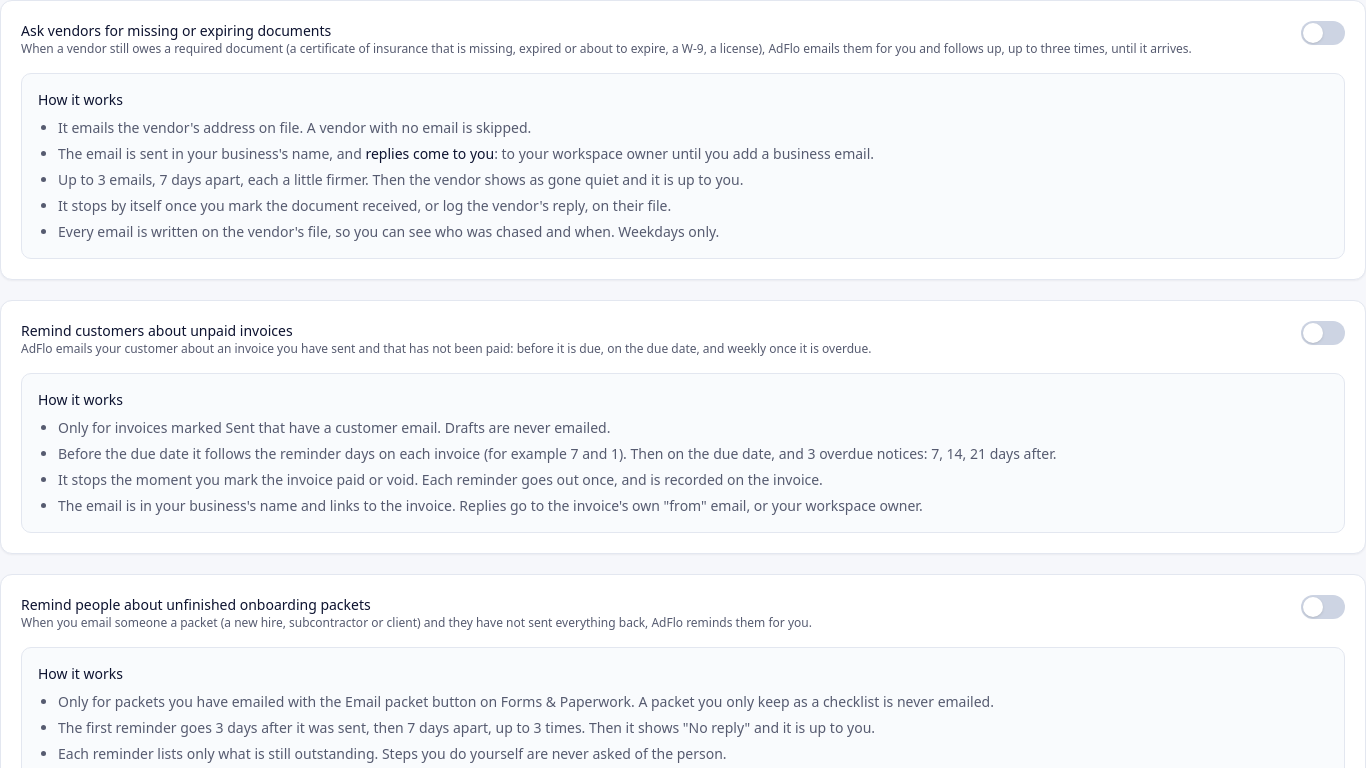
Scenario: Automations section › switches on and off, and saves each choice
This screenshot has width=1366, height=768.
Click the 1st switch named "Ask vendors for missing or expiring documents". click: point(1323, 33)
box: [1301,21,1345,45]
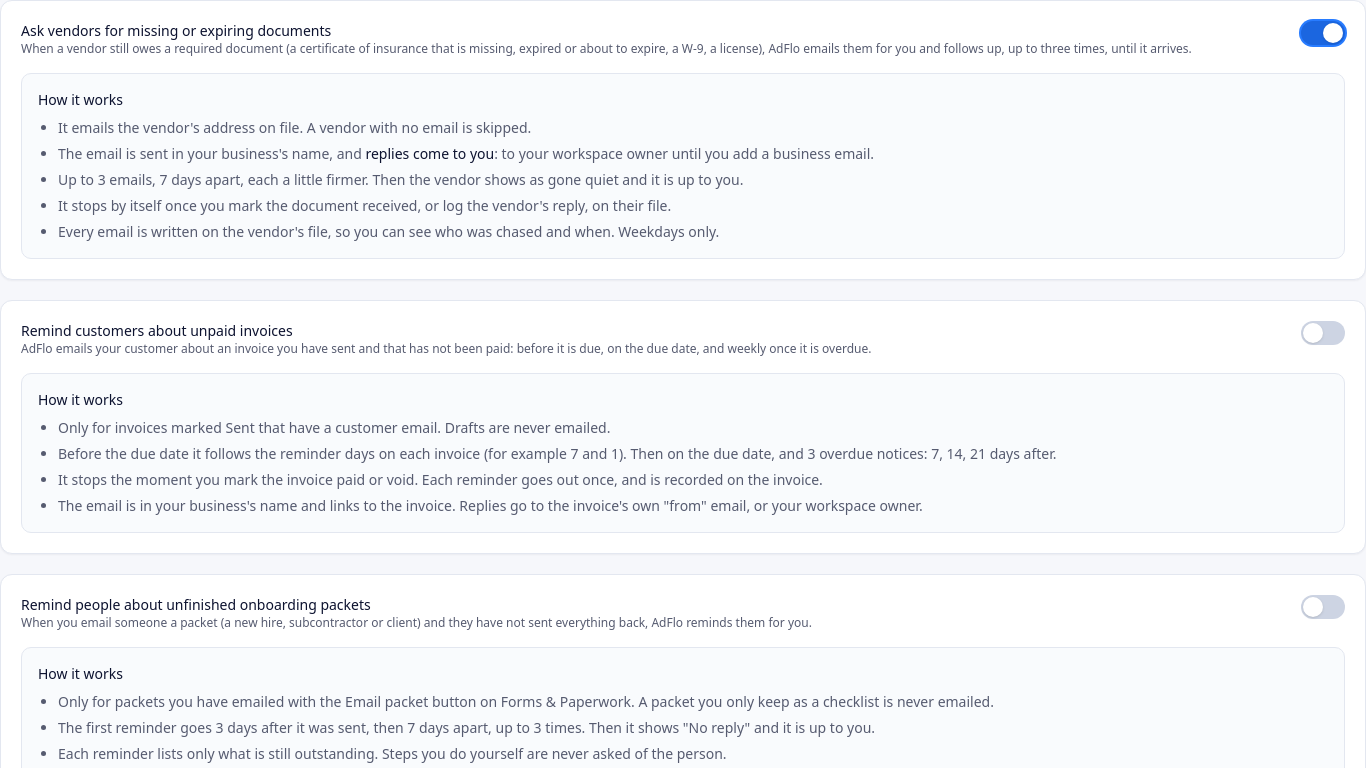
Result: the 1st switch named "Ask vendors for missing or expiring documents" is checked
Click the 1st switch named "Ask vendors for missing or expiring documents". click: point(1323, 33)
box: [1301,21,1345,45]
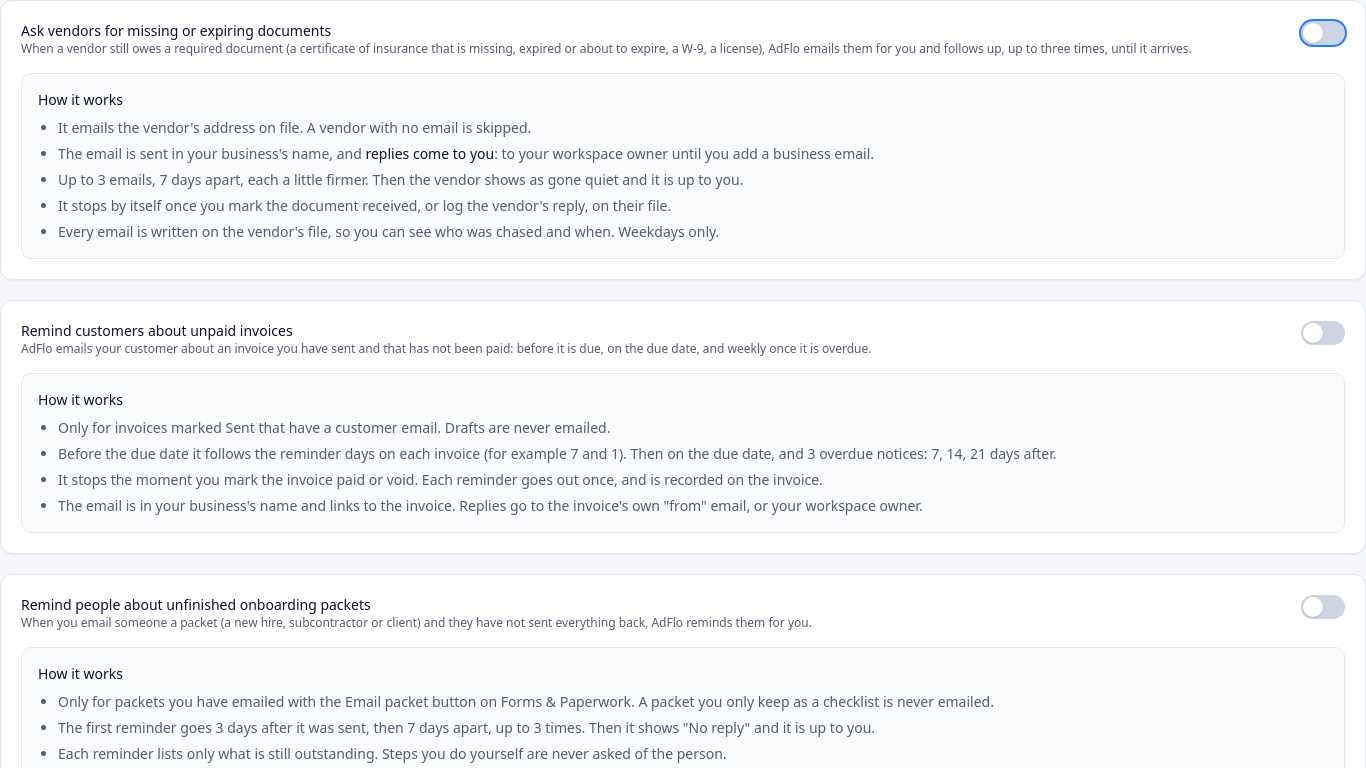
Result: the 1st switch named "Ask vendors for missing or expiring documents" is not checked at [1301,21,1345,45]
